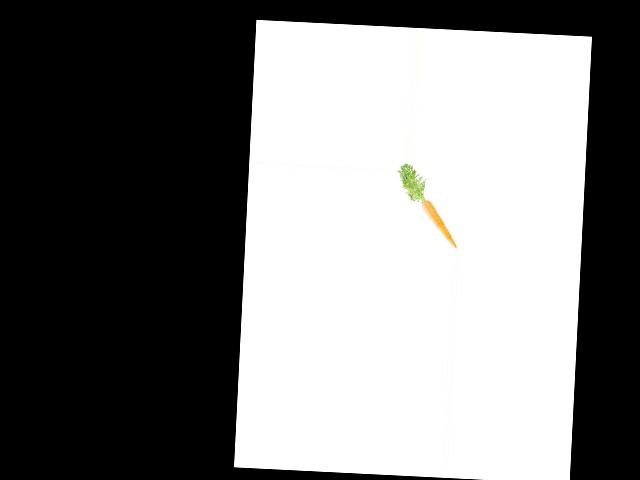carrot: (418, 194, 461, 250)
